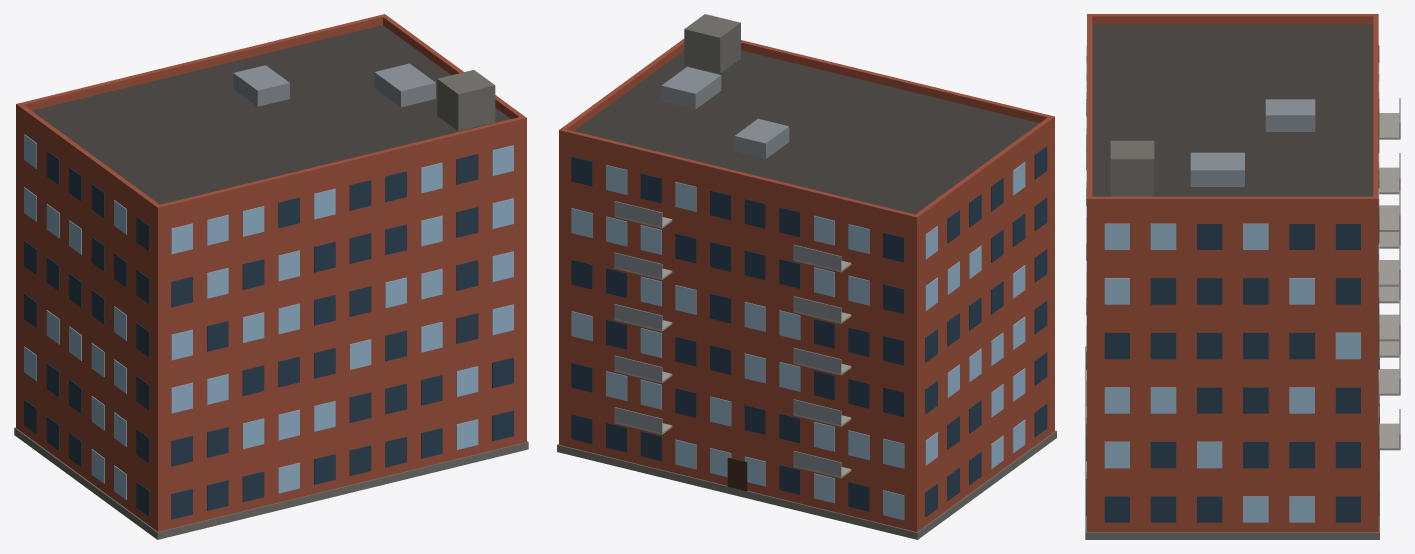
Rendered from bld_apart_a.glb.
The picture shows the model from 3 angles, left to right: view 1: azimuth 30°, elevation 25°; view 2: azimuth 150°, elevation 25°; view 3: azimuth 270°, elevation 25°; orthographic projection. The views are drawn at different scales.
Parts seen in each view (by area): view 1: bld_apart_a__mesh; view 2: bld_apart_a__mesh; view 3: bld_apart_a__mesh.
Part boxes in pixels (x1,y1,x2,y2): bld_apart_a__mesh: (14, 14, 528, 539); bld_apart_a__mesh: (557, 14, 1056, 539); bld_apart_a__mesh: (1085, 14, 1400, 539).
Size of the model in its own units: 24.16 by 22.4 by 17.28.
